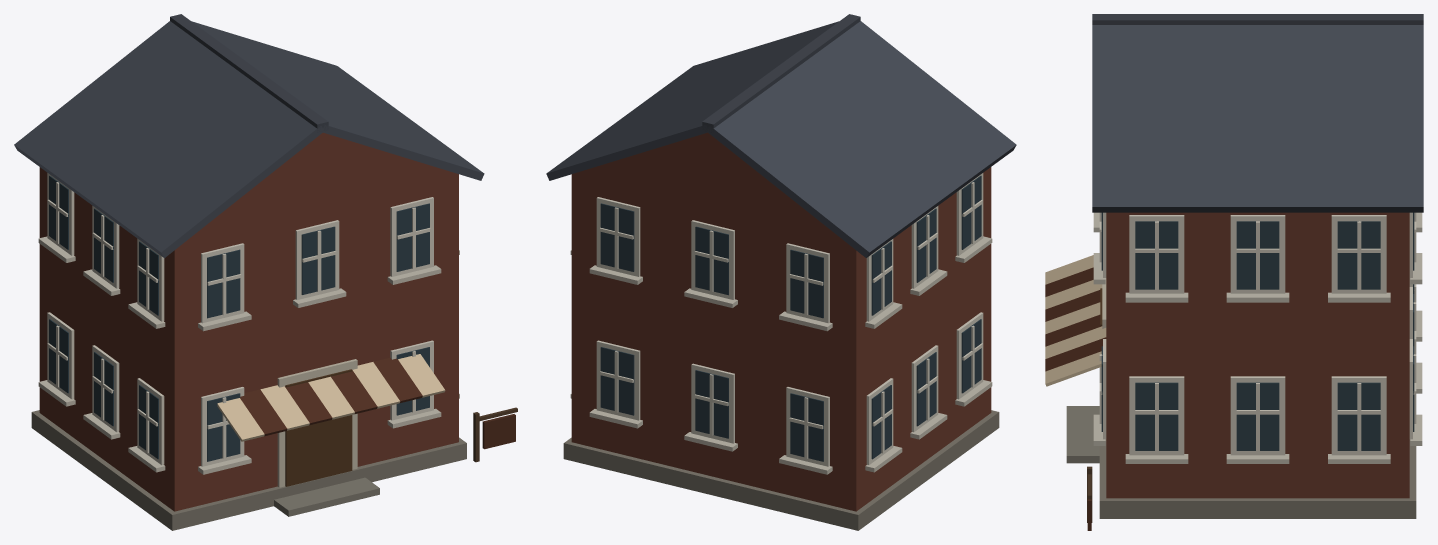
Rendered from procedural_chocolatier@5.glb.
The picture shows the model from 3 angles, left to right: view 1: azimuth 30°, elevation 25°; view 2: azimuth 150°, elevation 25°; view 3: azimuth 270°, elevation 25°; orthographic projection. The views are drawn at different scales.
Parts seen in each view (by area): view 1: part_0; view 2: part_0; view 3: part_0.
Boxes of the visible parts, x1,y1,x2,y2 form: part_0: (14, 14, 517, 530); part_0: (546, 14, 1016, 530); part_0: (1045, 14, 1423, 530).
Bounding box in the file's own units: 6.98 × 7.04 × 5.73.
